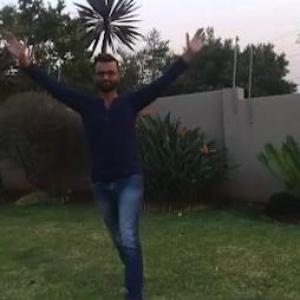takeoff: (3, 26, 206, 299)
